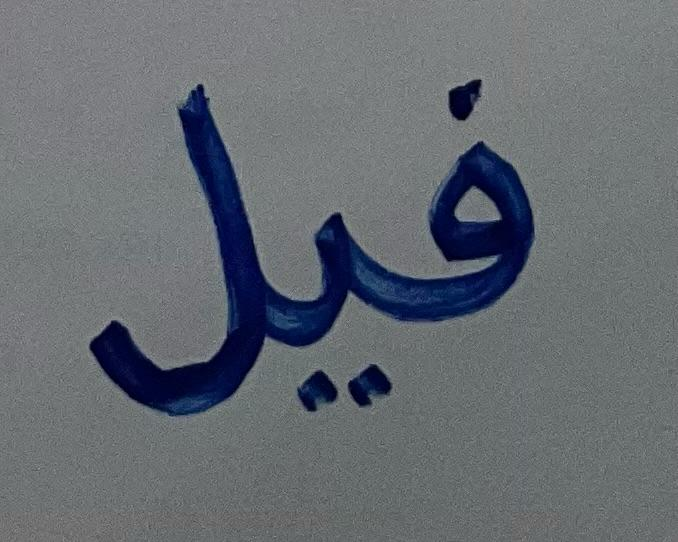dal: (71, 63, 265, 426)
qaf: (404, 65, 553, 339)
yeh: (270, 175, 394, 419)
